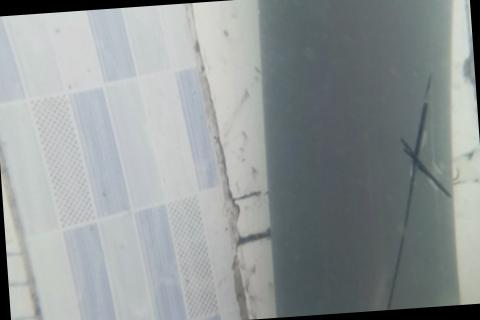keretakan: (369, 74, 459, 310)
